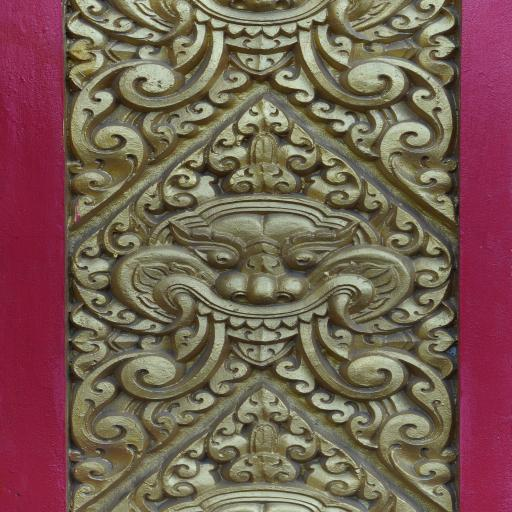la: (329, 53, 463, 196), (69, 55, 182, 195), (339, 345, 460, 475), (66, 346, 185, 476), (163, 433, 219, 499), (164, 145, 216, 206), (317, 435, 366, 496), (216, 163, 306, 195), (68, 234, 116, 291), (97, 205, 152, 254), (312, 148, 360, 204), (227, 451, 300, 486), (202, 126, 255, 174), (236, 96, 294, 134), (276, 412, 318, 464), (414, 231, 453, 287), (383, 202, 423, 255), (278, 122, 318, 175), (208, 412, 248, 464), (239, 386, 293, 424), (171, 99, 219, 139), (310, 95, 356, 136), (205, 70, 253, 109), (126, 472, 176, 509), (356, 176, 393, 225), (209, 358, 253, 399), (273, 65, 314, 107), (276, 357, 316, 398), (307, 386, 350, 424), (172, 392, 217, 428), (359, 469, 395, 512), (132, 184, 170, 224), (236, 52, 295, 70)
than: (110, 192, 406, 352), (165, 0, 371, 52)
